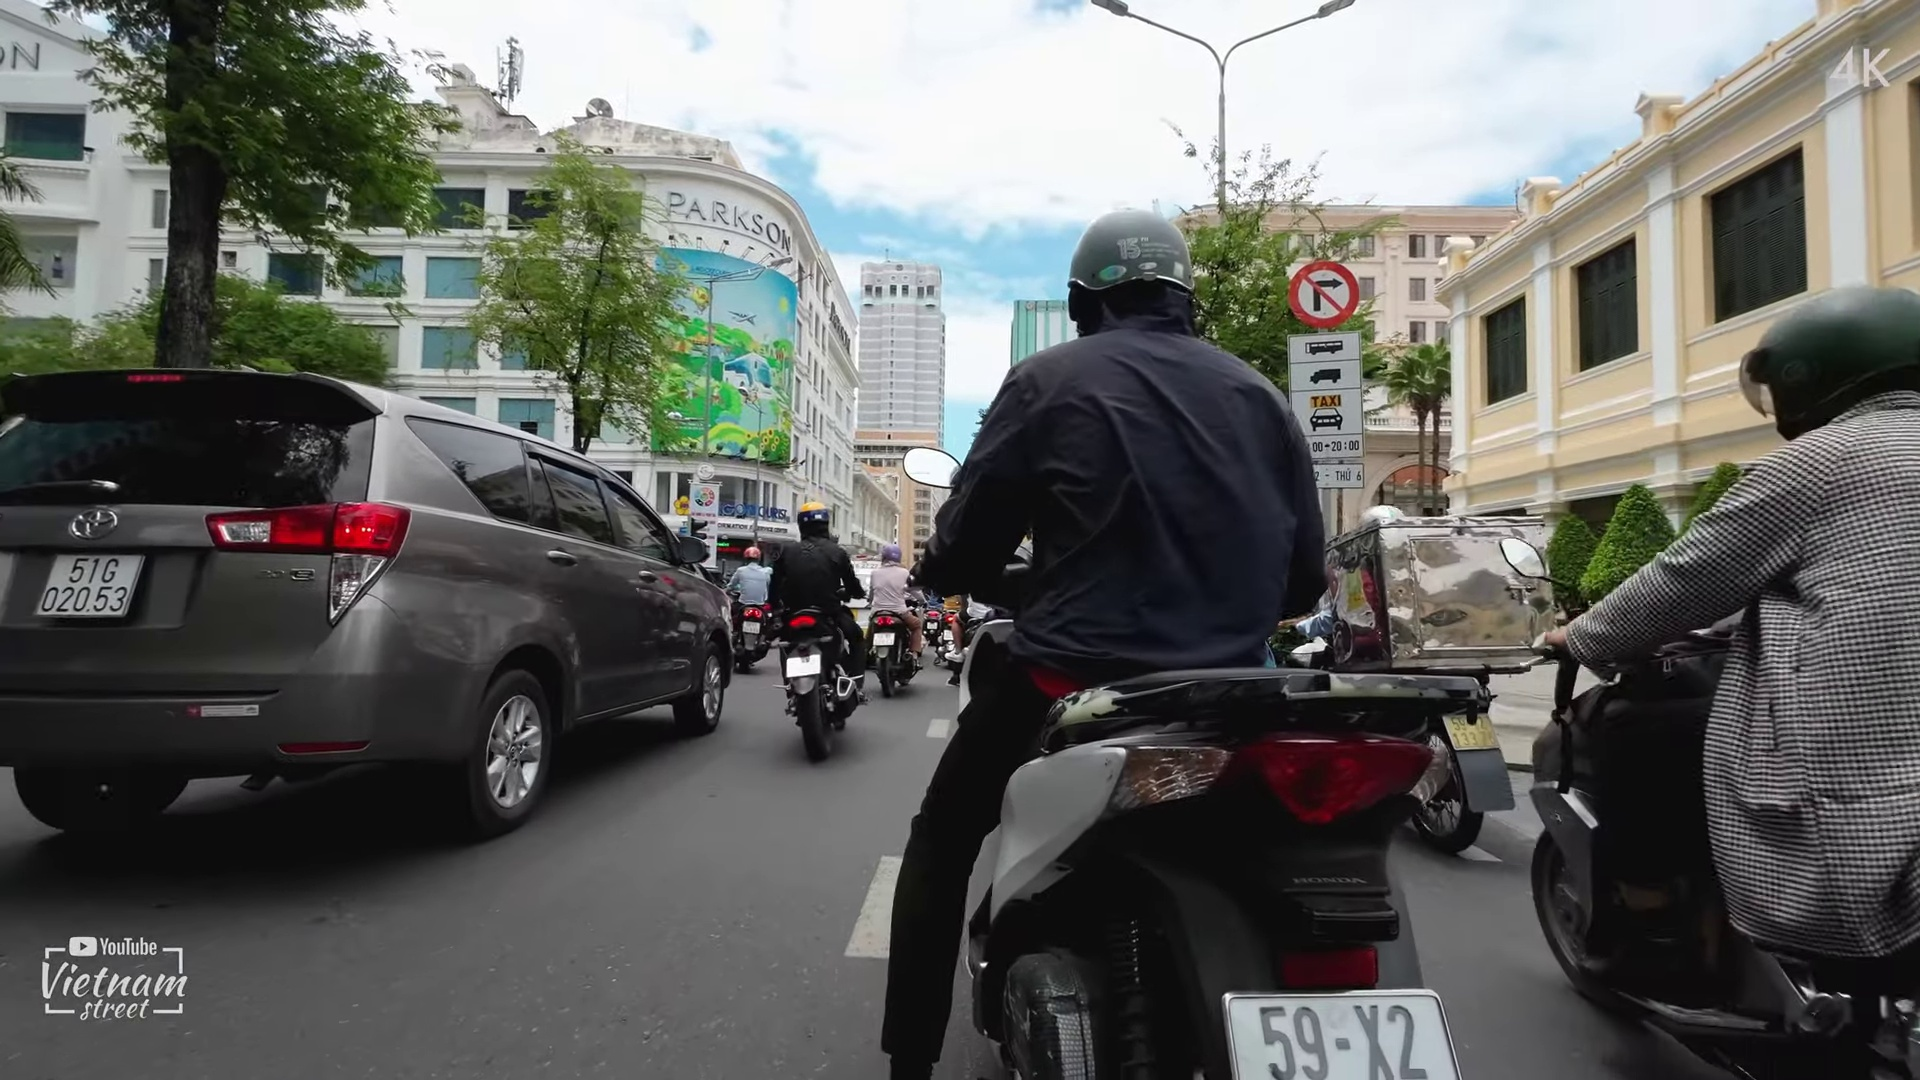cam_re_phai: (1282, 251, 1364, 331)
